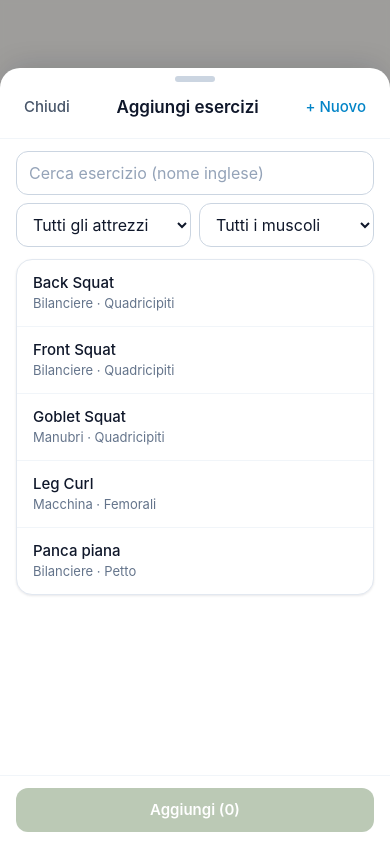
Test: ExercisePicker offline nell'IPA › C22: cercando squat mostra gli esercizi locali senza duplicati e nessuna richiesta
Type "squat" into the search field labelled "Cerca esercizio".
click(195, 172); type("squat")  # box [16,150,374,194]
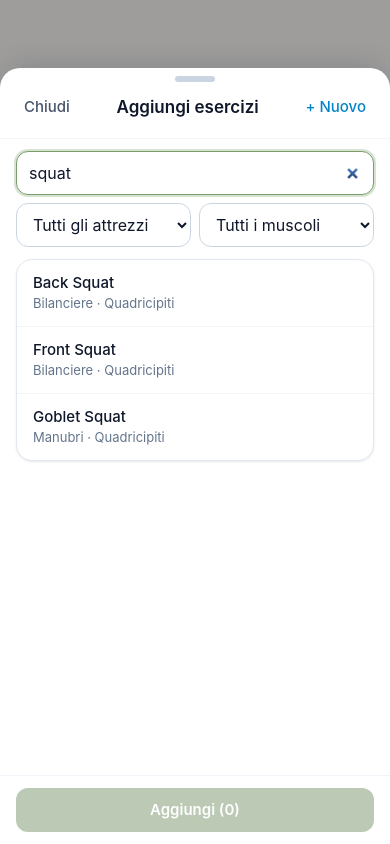
Check: the number of buttons "Goblet Squat Manubri · Quadricipiti" is 1, box [17,394,373,460]
Check: the button "Panca piana" is gone
Check: the button "Leg Curl" is gone
